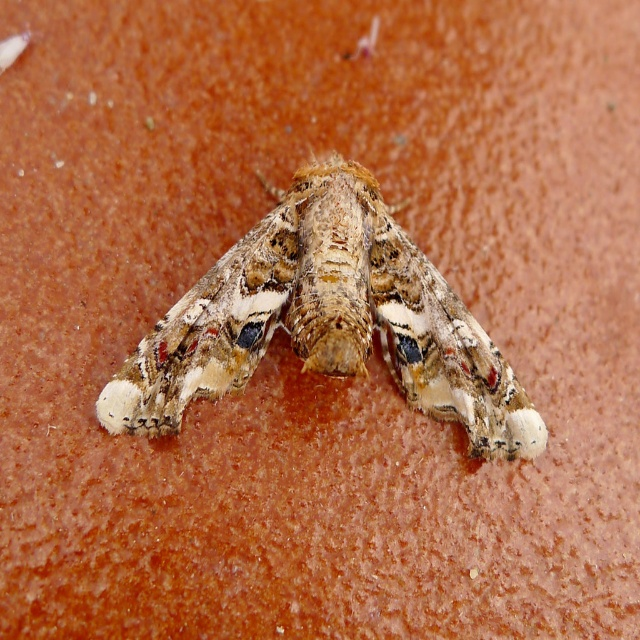Moths and butterflies: (92, 148, 555, 463)
